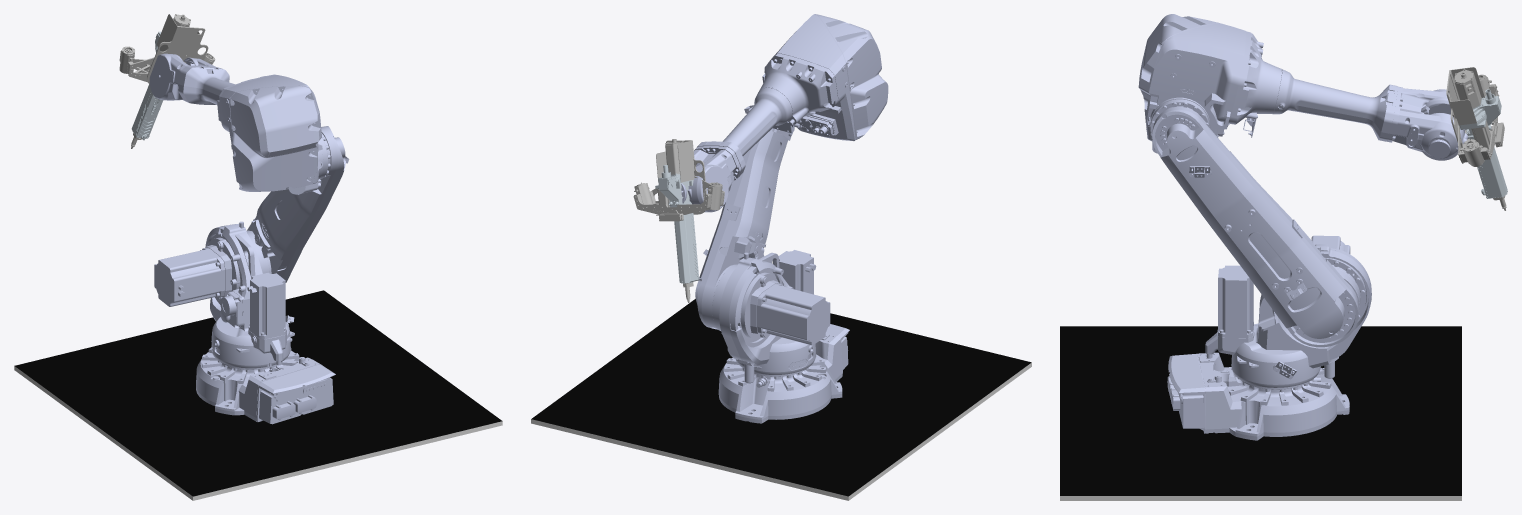
Rendered from robot.glb.
3 renders of one model, left to right at view 1: azimuth 30°, elevation 25°; view 2: azimuth 150°, elevation 25°; view 3: azimuth 270°, elevation 25°, orthographic. The views are drawn at different scales.
Parts seen in each view (by area): view 1: BASE_ROBOT, LINK1, LINK3, LINK0, LINK2, TETE_EXTRUSION, LINK4; view 2: BASE_ROBOT, LINK1, LINK3, LINK2, LINK0, TETE_EXTRUSION, LINK4; view 3: BASE_ROBOT, LINK2, LINK3, LINK1, LINK0, LINK4, TETE_EXTRUSION.
Boxes of the visible parts, <box> form: BASE_ROBOT: <box>14,290,502,500</box>; LINK1: <box>154,221,294,372</box>; LINK3: <box>217,74,330,194</box>; LINK0: <box>196,348,335,424</box>; LINK2: <box>247,126,349,282</box>; TETE_EXTRUSION: <box>119,14,215,148</box>; LINK4: <box>149,53,234,104</box>; BASE_ROBOT: <box>531,299,1031,500</box>; LINK1: <box>712,250,830,383</box>; LINK3: <box>759,14,888,141</box>; LINK2: <box>695,105,794,329</box>; LINK0: <box>718,324,849,423</box>; TETE_EXTRUSION: <box>633,139,724,302</box>; LINK4: <box>687,87,792,212</box>; BASE_ROBOT: <box>1060,326,1461,500</box>; LINK2: <box>1152,106,1358,347</box>; LINK3: <box>1138,14,1282,153</box>; LINK1: <box>1205,235,1371,392</box>; LINK0: <box>1167,352,1349,440</box>; LINK4: <box>1273,69,1468,156</box>; TETE_EXTRUSION: <box>1446,67,1507,210</box>.
Bounding box in the file's own units: 1.5 × 1.57 × 1.67.
